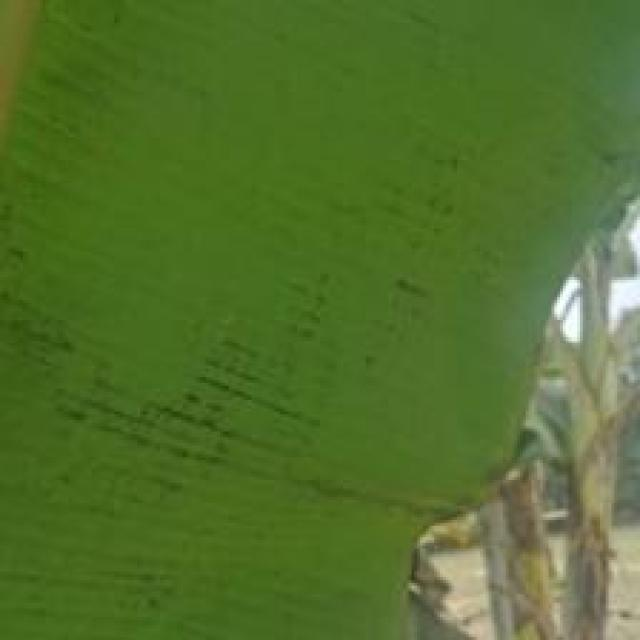Black_leaf_spot: (0, 0, 611, 575)
